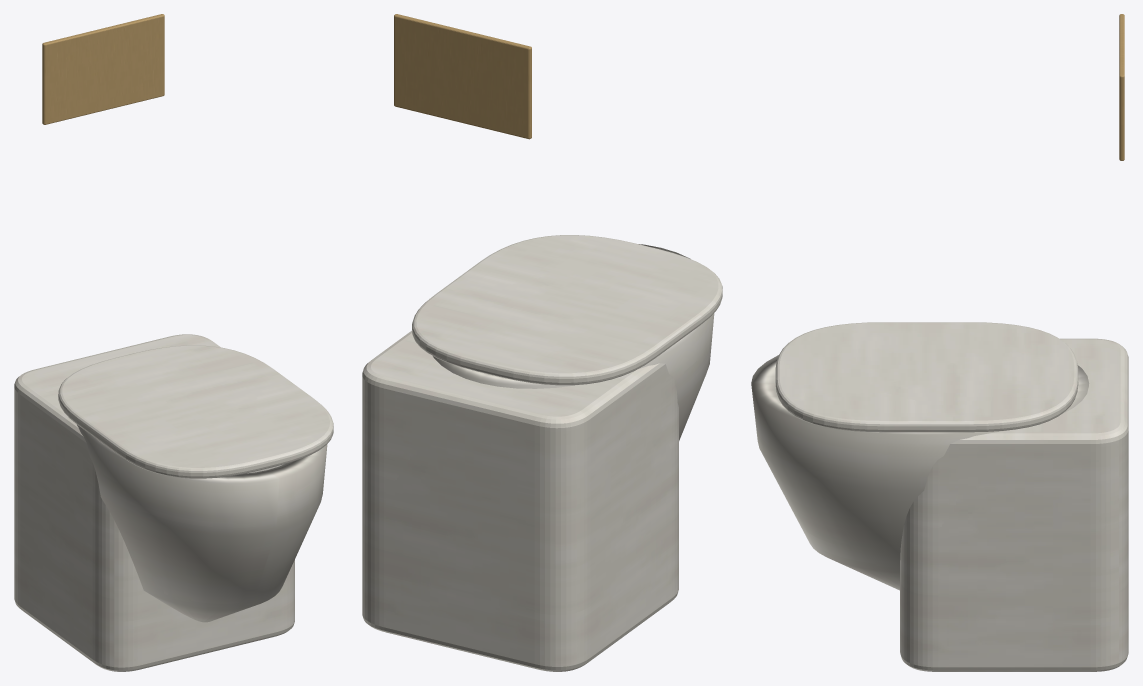
File: kowhai-hero-bth-02.glb
3 views of the same model, side by side, from view 1: azimuth 30°, elevation 25°; view 2: azimuth 150°, elevation 25°; view 3: azimuth 270°, elevation 25° (orthographic). The views are drawn at different scales.
Parts seen in each view (by area): view 1: Toilet_BackToWallShroud, Toilet_SlimlineSoftCloseSeat, Toilet_RimlessCeramicBowl, Toilet_BrassDualFlushPlate; view 2: Toilet_BackToWallShroud, Toilet_SlimlineSoftCloseSeat, Toilet_BrassDualFlushPlate, Toilet_RimlessCeramicBowl; view 3: Toilet_BackToWallShroud, Toilet_SlimlineSoftCloseSeat, Toilet_RimlessCeramicBowl, Toilet_BrassDualFlushPlate.
Boxes of the visible parts, x1,y1,x2,y2 form: Toilet_BackToWallShroud: (14,334,294,671); Toilet_SlimlineSoftCloseSeat: (58,345,333,478); Toilet_RimlessCeramicBowl: (77,424,327,622); Toilet_BrassDualFlushPlate: (42,14,164,124); Toilet_BackToWallShroud: (362,330,678,671); Toilet_SlimlineSoftCloseSeat: (412,235,722,385); Toilet_BrassDualFlushPlate: (394,14,531,139); Toilet_RimlessCeramicBowl: (433,244,714,440); Toilet_BackToWallShroud: (900,338,1128,671); Toilet_SlimlineSoftCloseSeat: (775,322,1078,432); Toilet_RimlessCeramicBowl: (751,355,1089,590); Toilet_BrassDualFlushPlate: (1119,14,1124,160).
Bounding box in the file's own units: 0.364 × 0.95 × 0.5612.
2 materials, 2 textured.
